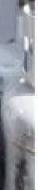cylinder: (0, 1, 38, 190)
